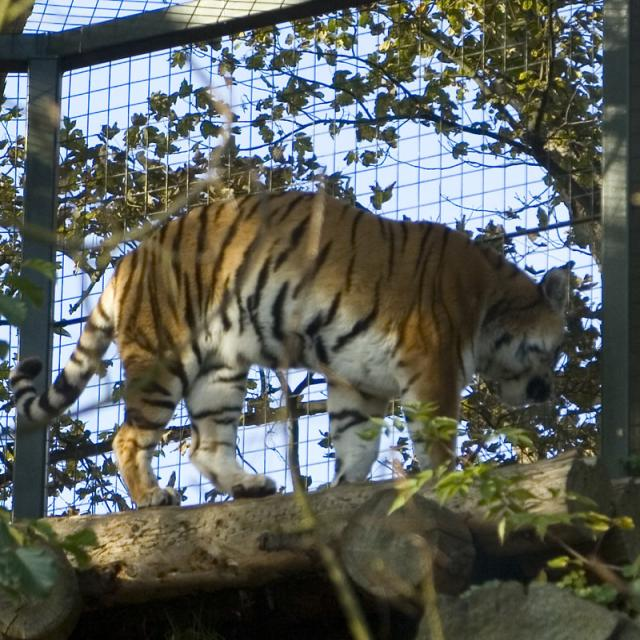Tiger: (8, 184, 574, 510)
